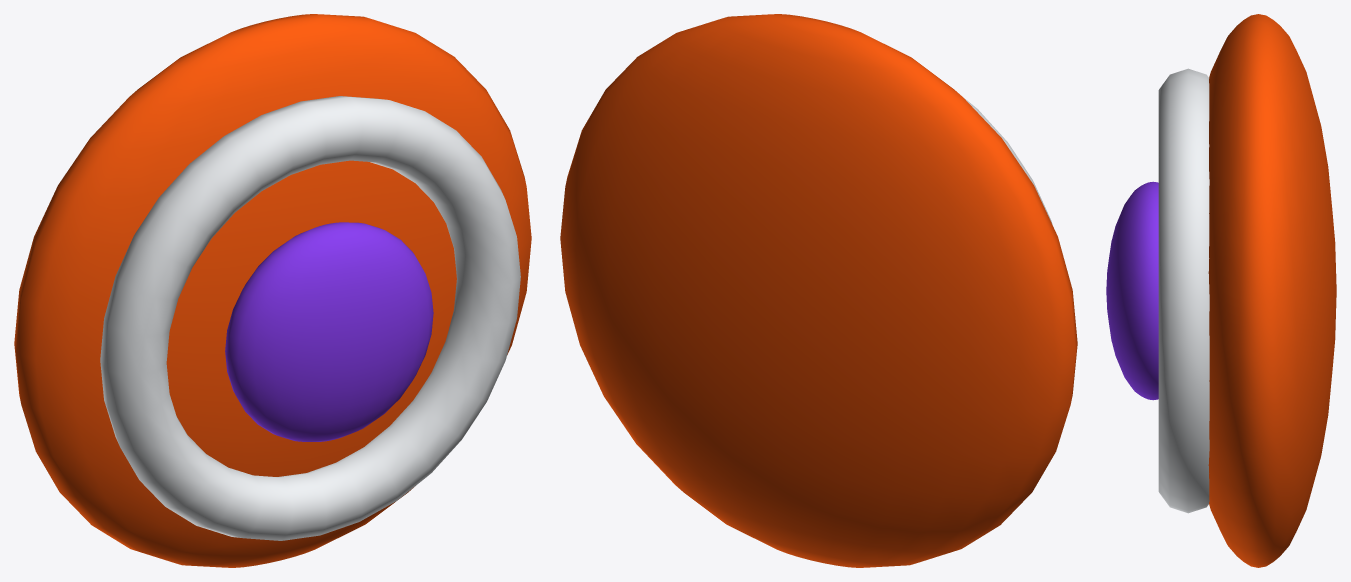
File: badge.glb
3 views of the same model, side by side, from view 1: azimuth 30°, elevation 25°; view 2: azimuth 150°, elevation 25°; view 3: azimuth 270°, elevation 25° (orthographic). The views are drawn at different scales.
Bounding box in the file's own units: 0.142 × 0.142 × 0.059.
